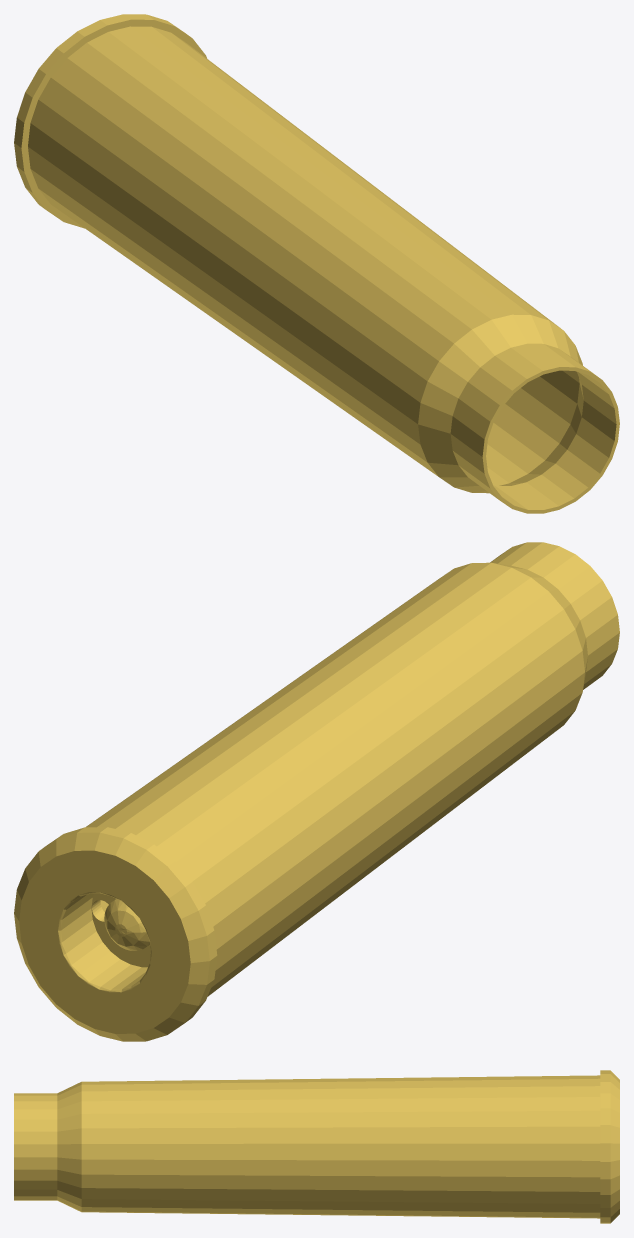
Rendered from Cartridge.fbx.
The picture shows the model from 3 angles, top to bottom: view 1: azimuth 30°, elevation 25°; view 2: azimuth 150°, elevation 25°; view 3: azimuth 270°, elevation 25°; orthographic projection. The views are drawn at different scales.
Visible parts, largest first — view 1: Body281; view 2: Body281; view 3: Body281.
Part boxes in pixels (bbox=[...]): Body281: bbox=[14, 14, 619, 513]; Body281: bbox=[14, 542, 619, 1041]; Body281: bbox=[14, 1070, 619, 1223].
Size of the model in its own units: 970 by 963 by 3830.
